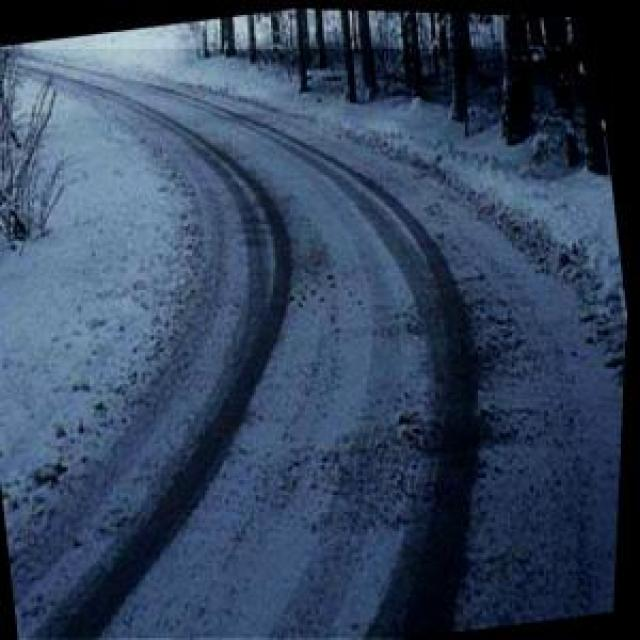ice-road: (0, 50, 625, 640)
